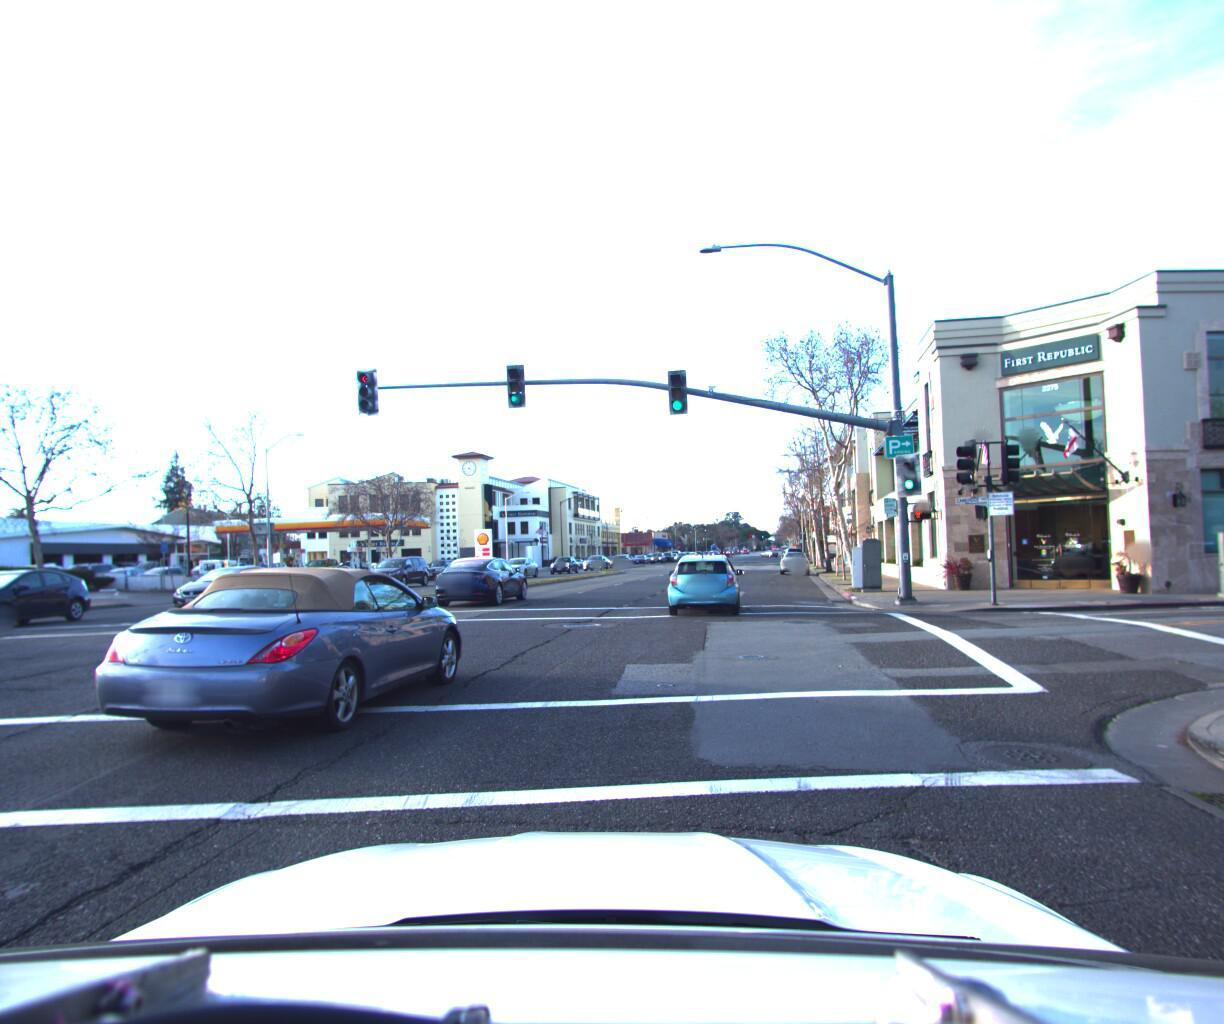car: (76, 553, 477, 761), (162, 557, 295, 614), (0, 562, 97, 636), (432, 548, 530, 604), (663, 546, 739, 615), (169, 553, 253, 592), (364, 547, 437, 584), (52, 546, 114, 567), (292, 555, 342, 579), (495, 551, 542, 574), (418, 554, 460, 578), (775, 544, 806, 571), (547, 549, 582, 570), (578, 550, 608, 567), (604, 549, 630, 564)
